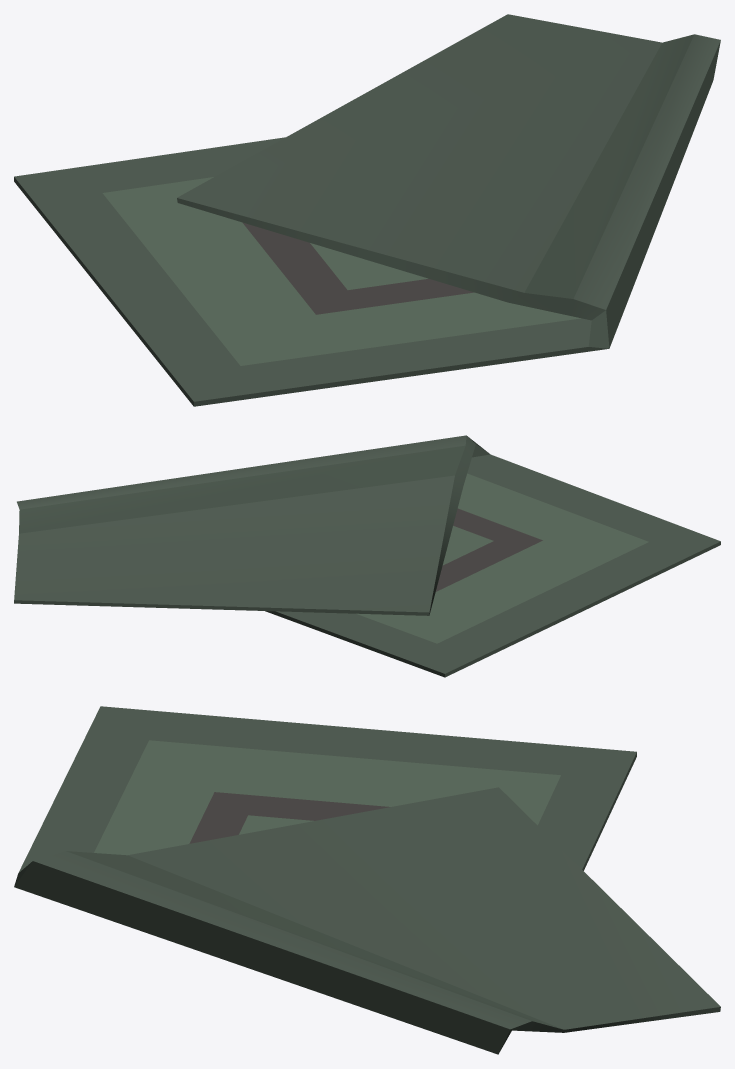
Rendered from SD_Prop_Rug_Green_Small_02.fbx.
3 views of the same model, one above another, from view 1: azimuth 30°, elevation 25°; view 2: azimuth 150°, elevation 25°; view 3: azimuth 270°, elevation 25° (orthographic). The views are drawn at different scales.
Parts seen in each view (by area): view 1: SD_Prop_Rug_Green_Small_02; view 2: SD_Prop_Rug_Green_Small_02; view 3: SD_Prop_Rug_Green_Small_02.
Boxes of the visible parts, box(x1,y1,x2,y2) form: SD_Prop_Rug_Green_Small_02: box(14, 14, 720, 406); SD_Prop_Rug_Green_Small_02: box(14, 435, 720, 677); SD_Prop_Rug_Green_Small_02: box(14, 706, 720, 1054).
Size of the model in its own units: 3.98 by 0.1752 by 3.4.
